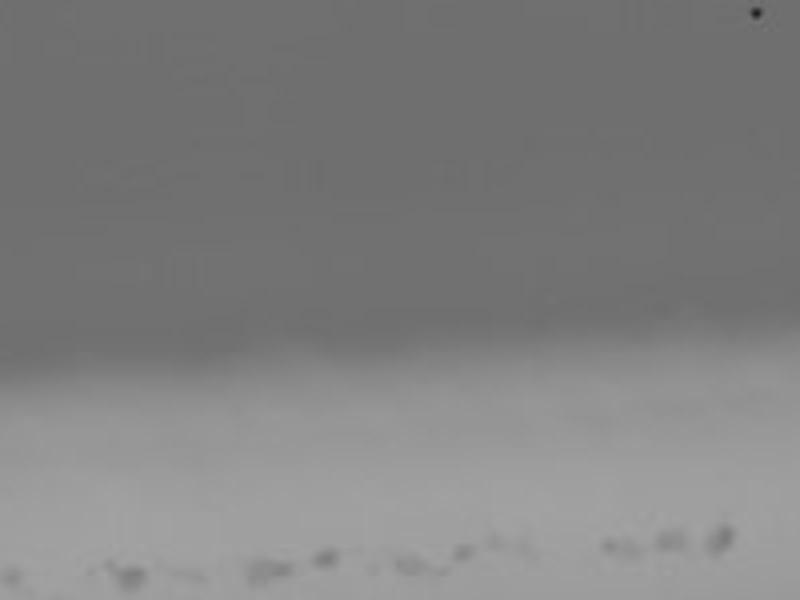defect: (236, 554, 292, 589), (168, 559, 218, 588), (704, 521, 739, 562), (392, 551, 429, 581), (114, 566, 149, 597), (601, 537, 642, 562), (653, 524, 685, 556), (312, 546, 343, 574), (484, 535, 509, 557), (450, 542, 476, 562), (1, 565, 23, 587), (363, 566, 387, 583), (745, 6, 768, 22), (102, 552, 118, 575), (431, 562, 451, 578), (83, 563, 99, 579)
